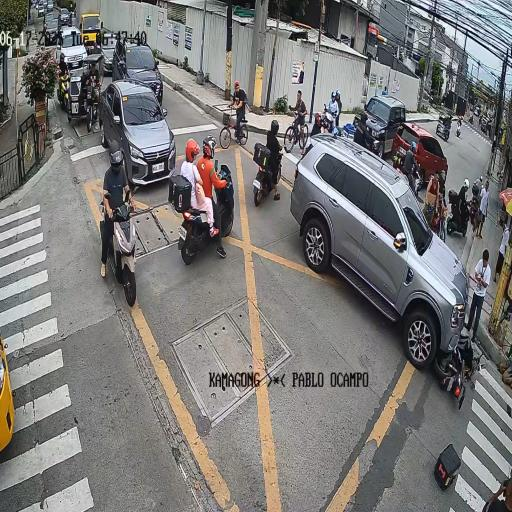Car: (299, 129, 461, 380), (97, 79, 182, 186), (107, 34, 168, 102), (393, 122, 454, 182)
Minor Accident: (302, 132, 480, 411)
Motor: (94, 162, 158, 338), (175, 162, 253, 266), (428, 324, 475, 400), (248, 125, 281, 217), (444, 187, 468, 243)
